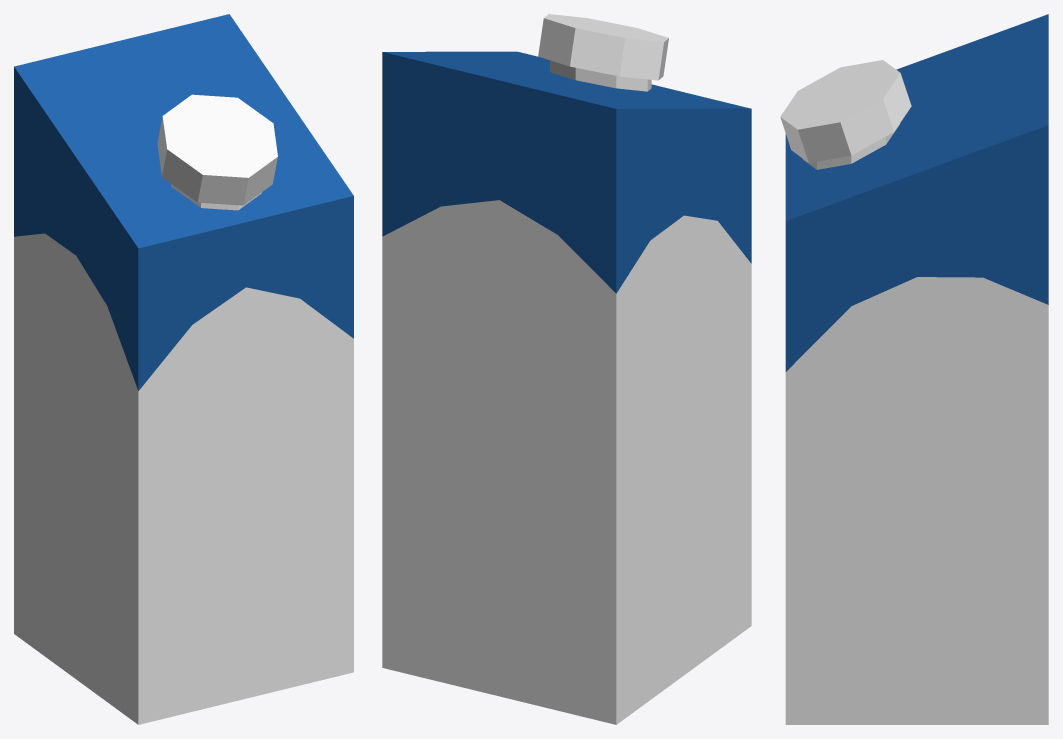
Rendered from 05_MILK.fbx.
3 views of the same model, side by side, from view 1: azimuth 30°, elevation 25°; view 2: azimuth 150°, elevation 25°; view 3: azimuth 270°, elevation 25° (orthographic). The views are drawn at different scales.
Parts seen in each view (by area): view 1: MILK; view 2: MILK; view 3: MILK.
Part boxes in pixels (<box>): MILK: <box>14,14,353,724</box>; MILK: <box>382,14,751,724</box>; MILK: <box>780,14,1048,724</box>.
Size of the model in its own units: 18.48 by 46.5 by 18.87.
